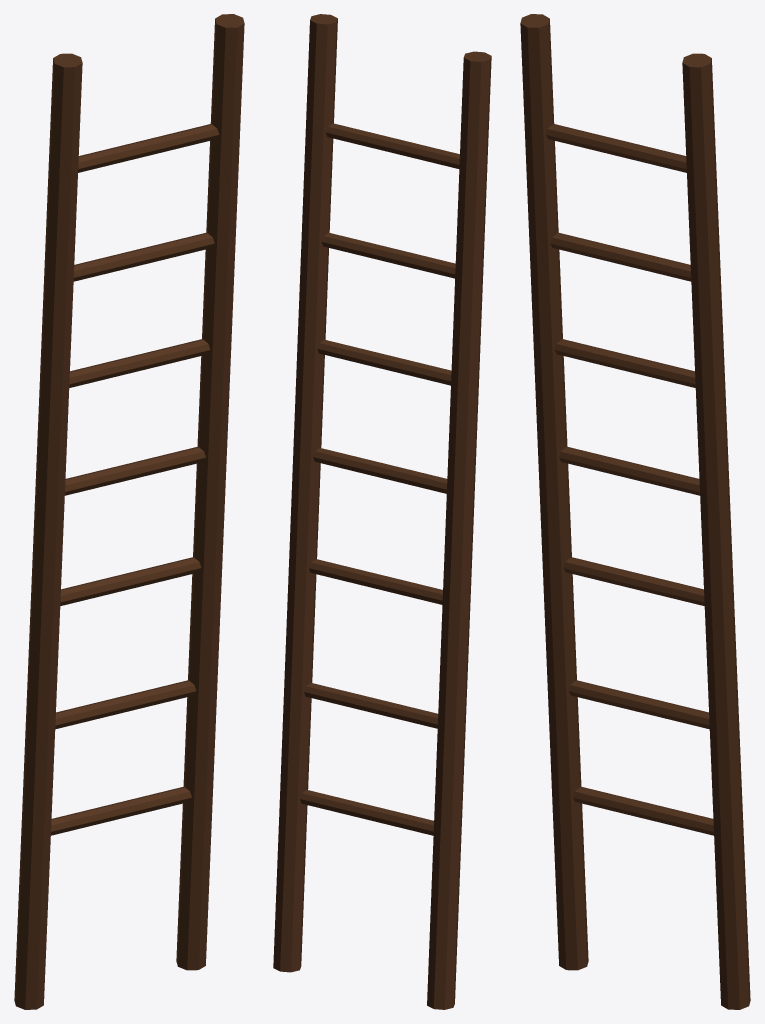
Rendered from escalerasMadera.fbx.
The picture shows the model from 3 angles, left to right: view 1: azimuth 30°, elevation 25°; view 2: azimuth 150°, elevation 25°; view 3: azimuth 330°, elevation 25°; orthographic projection. The views are drawn at different scales.
Visible parts, largest first — view 1: wooden_stairs_2; view 2: wooden_stairs_2; view 3: wooden_stairs_2.
Boxes of the visible parts, bbox=[...] form: wooden_stairs_2: bbox=[14, 14, 244, 1009]; wooden_stairs_2: bbox=[273, 14, 491, 1009]; wooden_stairs_2: bbox=[520, 14, 750, 1009].
Size of the model in its own units: 0.2701 by 1.33 by 0.1339.
